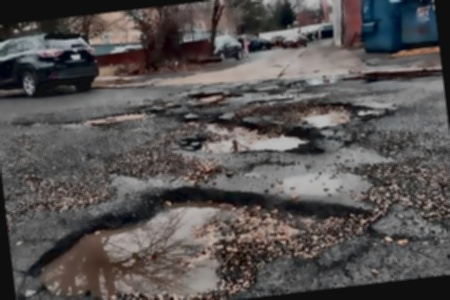pothole: (17, 162, 385, 300), (173, 104, 321, 172), (292, 95, 375, 132), (72, 108, 145, 127), (194, 90, 226, 104)
